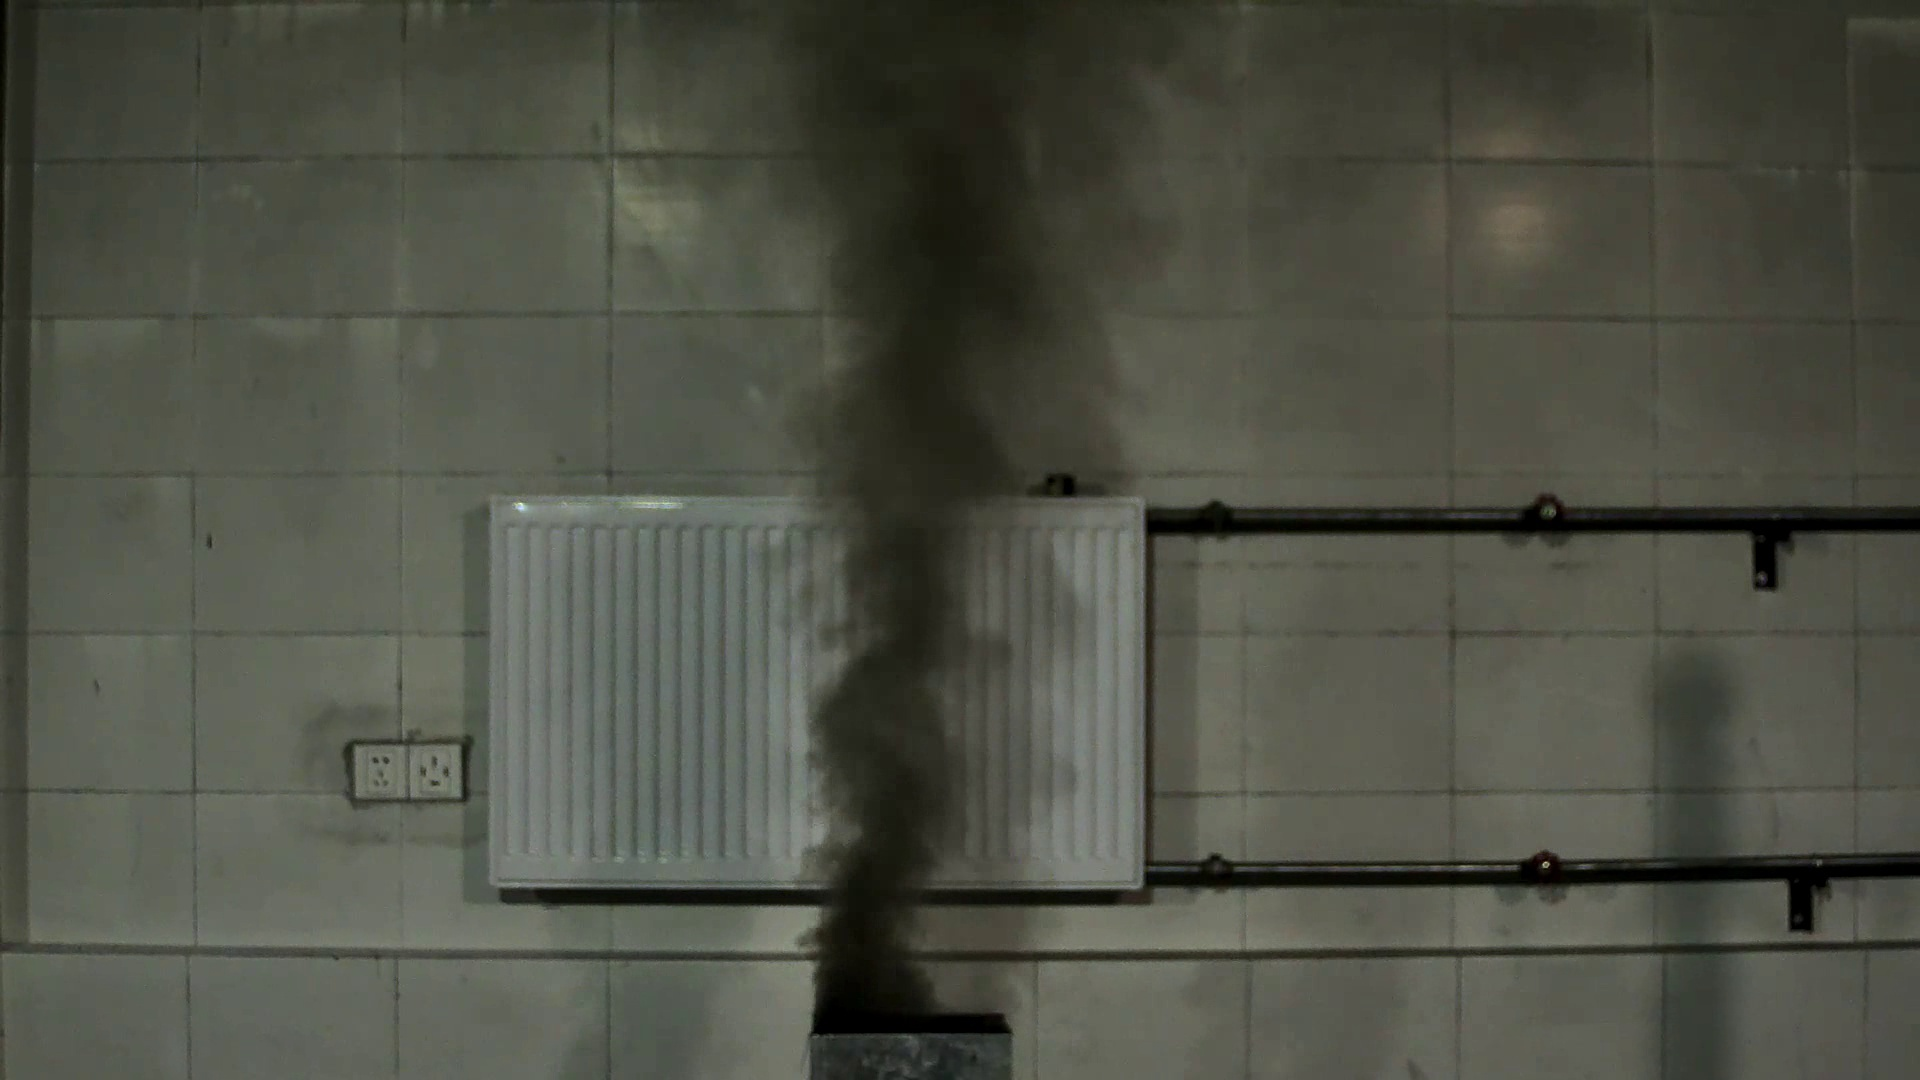smoke: (704, 18, 1104, 1022)
